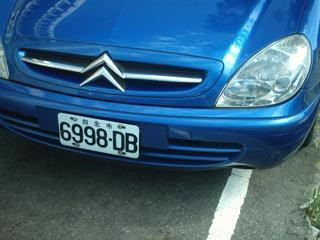plate: (54, 110, 145, 163)
